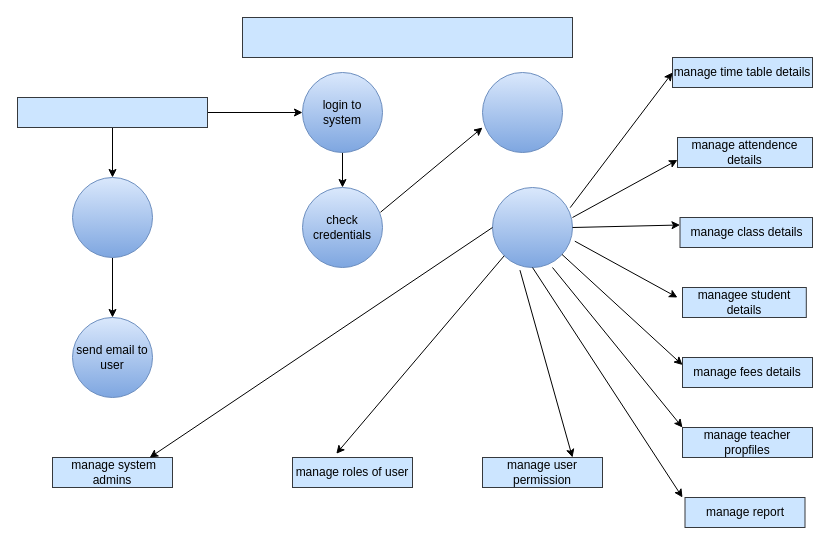
This 830x545 diagram has some shape labels left out. Each missing label, with the box of its shape:
Admin: (16, 96, 208, 128)
check rule of access: (482, 72, 562, 152)
Forgot password: (72, 176, 152, 258)
manage modules: (492, 186, 572, 268)
Student Information System: (242, 16, 572, 58)
